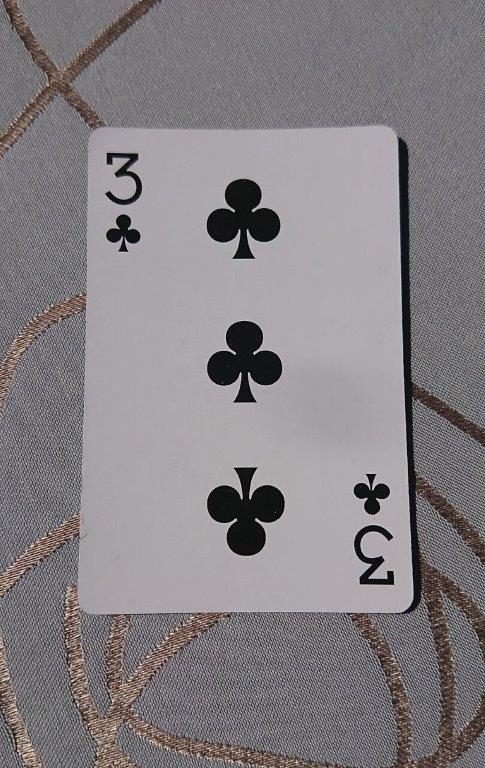3C: (74, 123, 418, 616)
